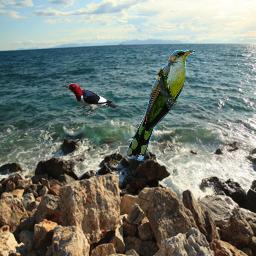Cuckoo: (127, 50, 195, 161)
Woodpecker: (59, 82, 120, 116)
